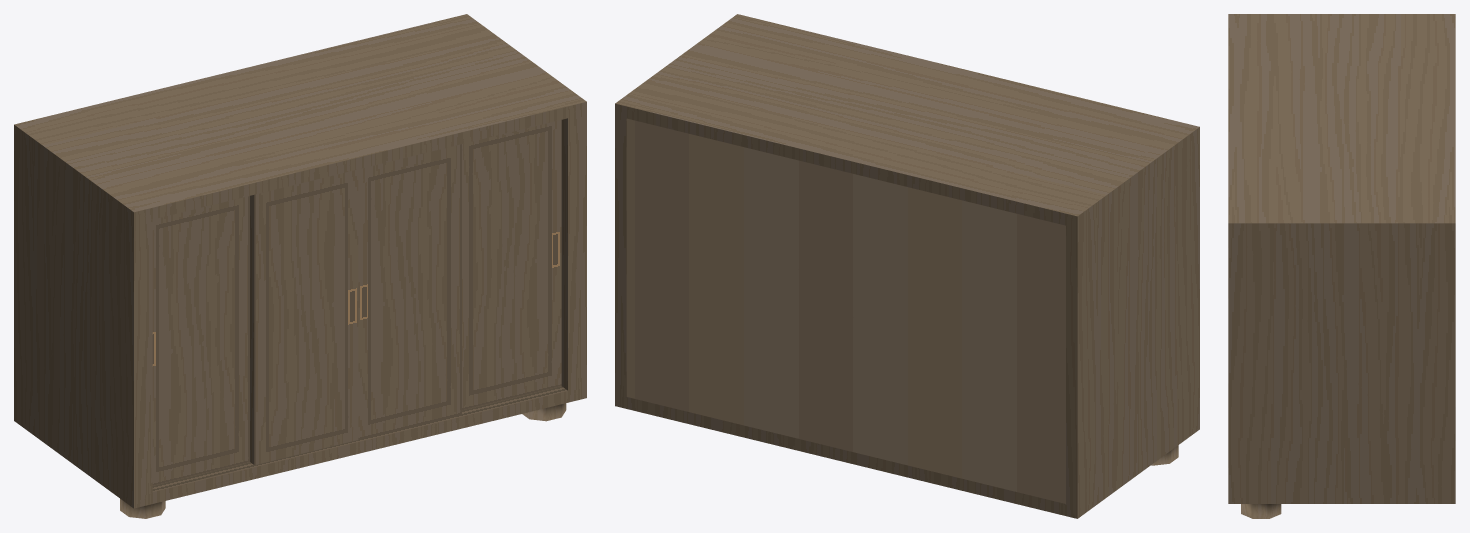
File: 053b_Shoe_Cupboard.glb
3 renders of one model, left to right at view 1: azimuth 30°, elevation 25°; view 2: azimuth 150°, elevation 25°; view 3: azimuth 270°, elevation 25°, orthographic. The views are drawn at different scales.
Parts seen in each view (by area): view 1: part_0; view 2: part_0; view 3: part_0.
Part boxes in pixels (bbox=[...]): part_0: bbox=[14, 14, 586, 518]; part_0: bbox=[615, 14, 1199, 518]; part_0: bbox=[1228, 14, 1455, 518].
Size of the model in its own units: 1.2 by 0.8 by 0.55.
1 material, 1 textured.
